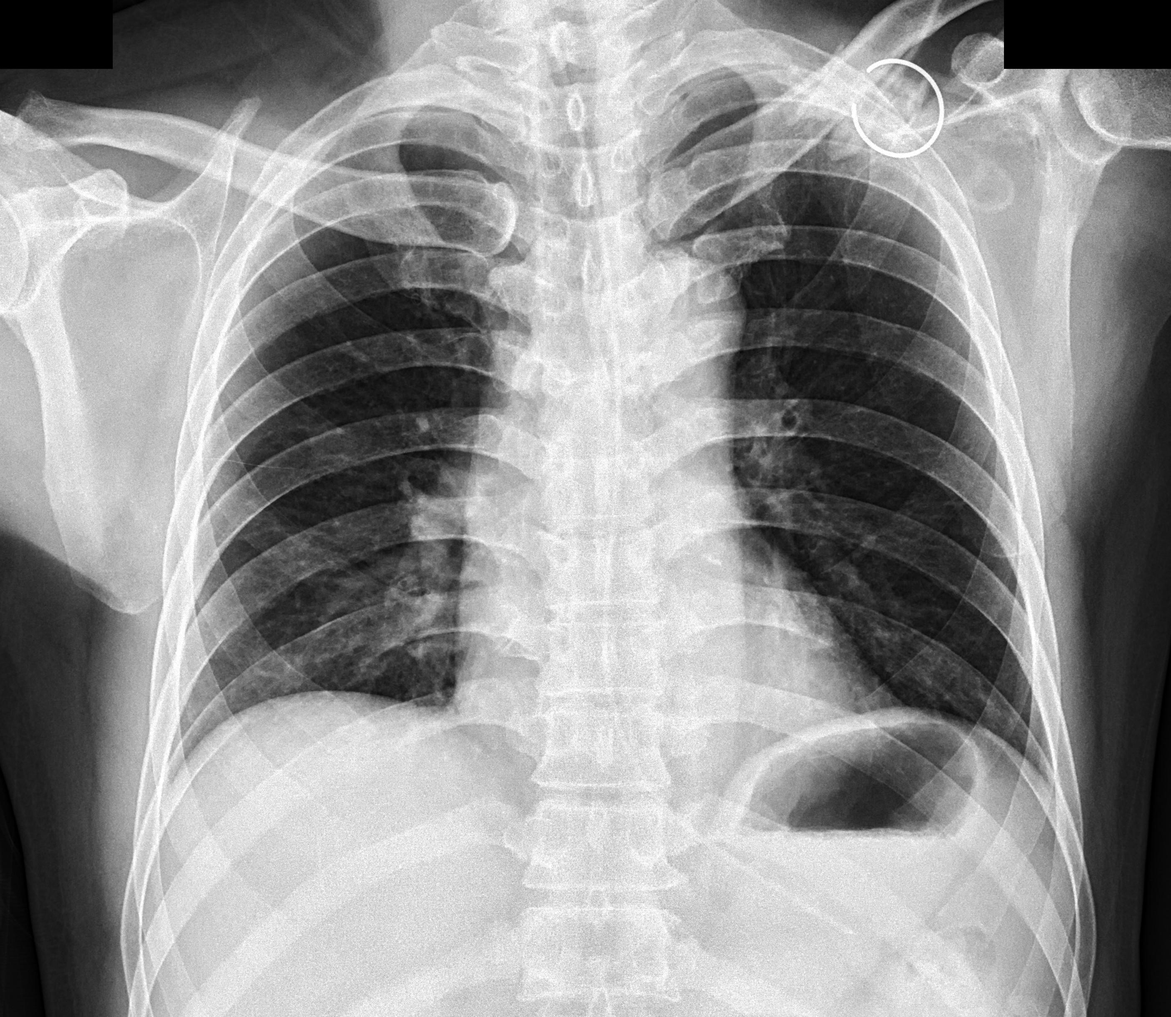Aortic enlargement: (621, 255, 745, 353)
